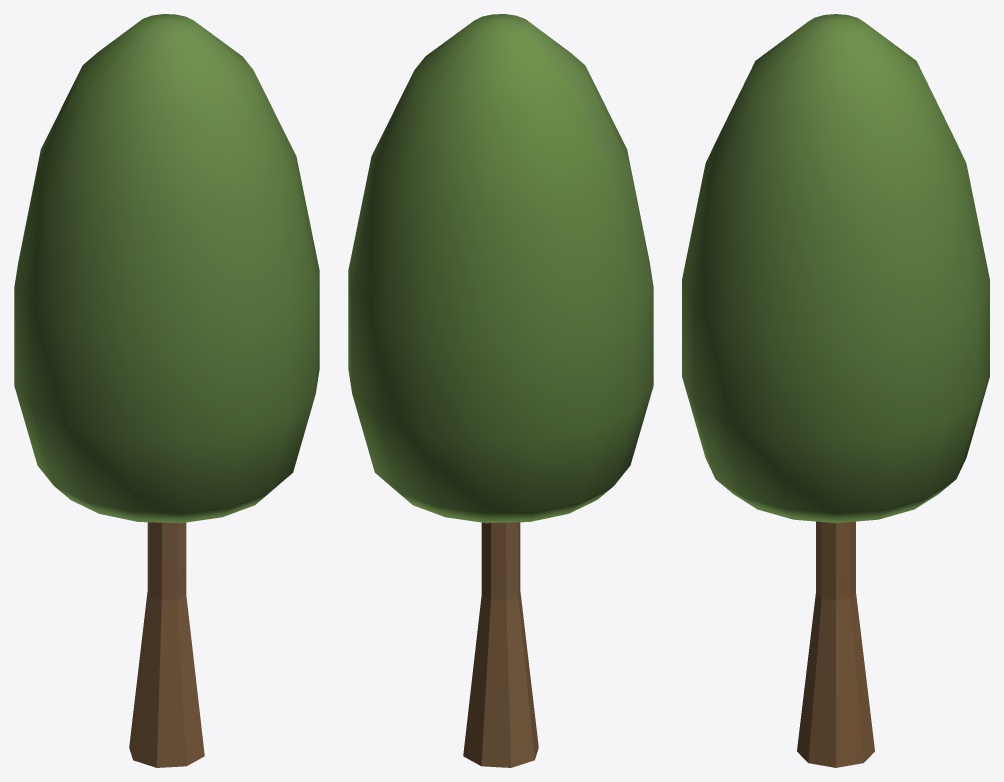
File: tree_2_green.fbx
3 renders of one model, left to right at view 1: azimuth 30°, elevation 25°; view 2: azimuth 150°, elevation 25°; view 3: azimuth 270°, elevation 25°, orthographic.
Visible parts, largest first — view 1: tree_2_green; view 2: tree_2_green; view 3: tree_2_green.
Part boxes in pixels (box(x1,y1,x2,y2)): tree_2_green: box(14, 14, 319, 767); tree_2_green: box(348, 14, 653, 767); tree_2_green: box(682, 14, 989, 767).
Size of the model in its own units: 331 by 868 by 331.
